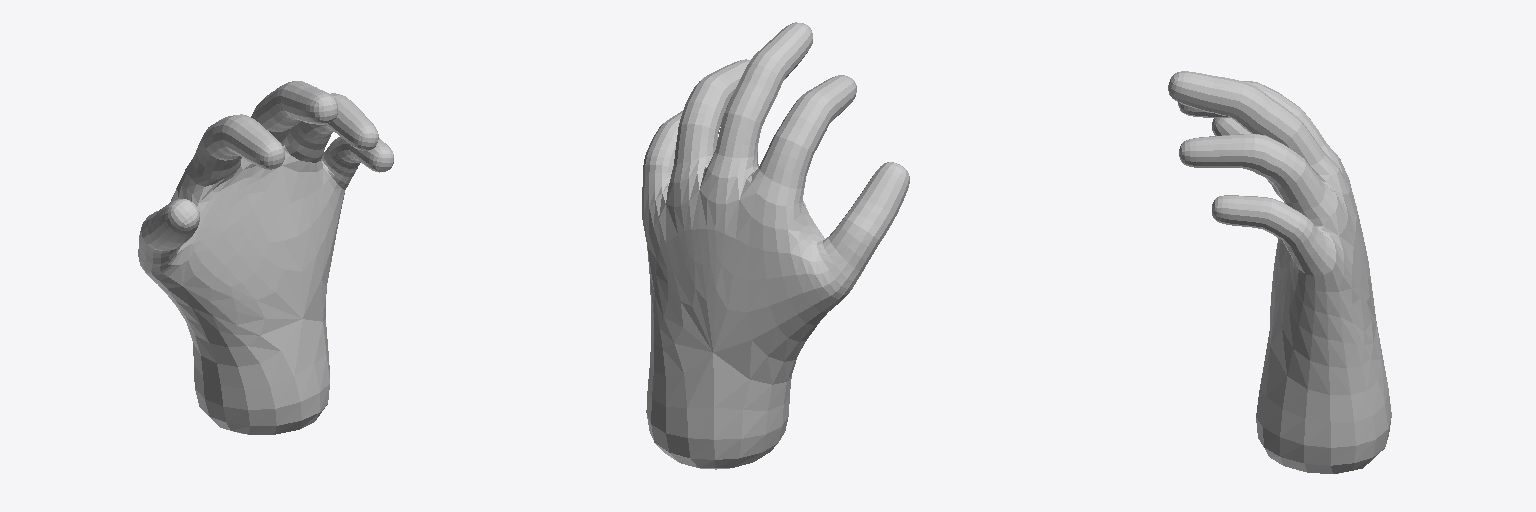
Rendered from handanimatsion22.obj.
The picture shows the model from 3 angles: view 1: azimuth 30°, elevation 25°; view 2: azimuth 150°, elevation 25°; view 3: azimuth 270°, elevation 25°; orthographic projection.
Visible parts, largest first — view 1: Cube; view 2: Cube; view 3: Cube.
Part boxes in pixels (x1,y1,x2,y2): Cube: (138, 81, 393, 434); Cube: (642, 22, 909, 469); Cube: (1168, 71, 1391, 473).
Bounding box in the file's own units: 3.45 × 5.51 × 2.91.